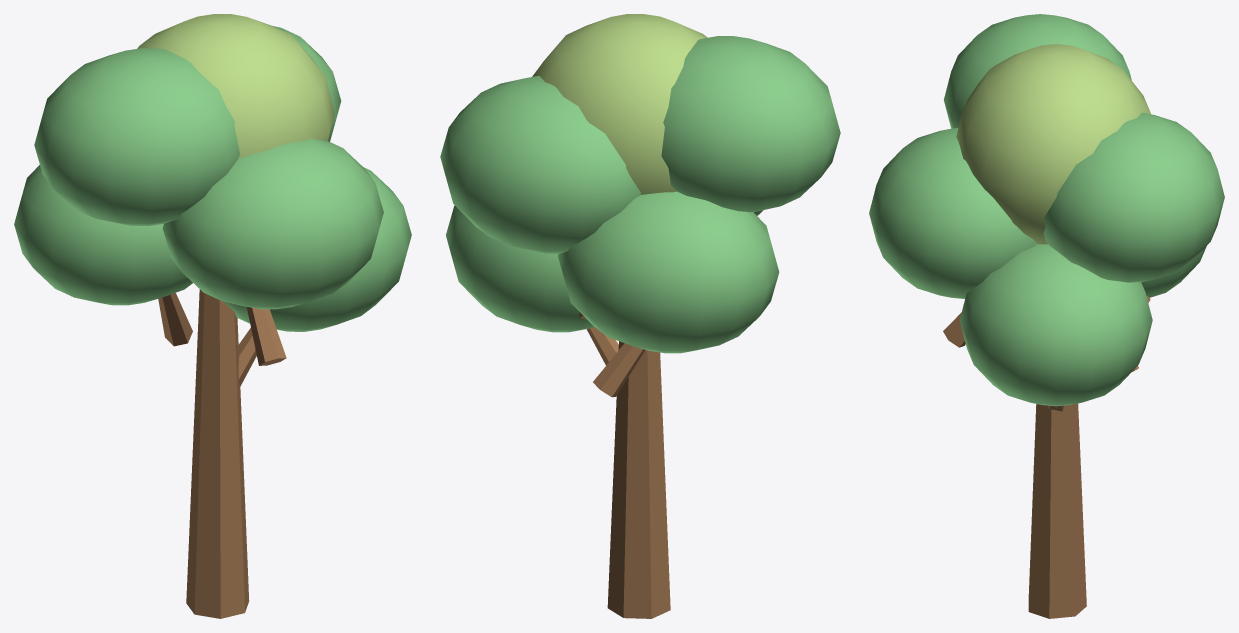
Rendered from tree_0.glb.
3 renders of one model, left to right at view 1: azimuth 30°, elevation 25°; view 2: azimuth 150°, elevation 25°; view 3: azimuth 270°, elevation 25°, orthographic. The views are drawn at different scales.
Parts seen in each view (by area): view 1: Canopy.004, Canopy.002, Trunk, Crown, Canopy.001, Canopy, Branch.002, Branch.001, Canopy.003, Branch; view 2: Canopy.001, Canopy.004, Canopy.003, Crown, Trunk, Canopy, Branch.001, Branch; view 3: Canopy, Canopy.003, Crown, Canopy.002, Trunk, Canopy.004, Canopy.001.
Part boxes in pixels (left/top/right/bottom): Canopy.004: left=34, top=48, right=240, bottom=225; Canopy.002: left=162, top=138, right=383, bottom=309; Trunk: left=186, top=289, right=249, bottom=618; Crown: left=137, top=14, right=334, bottom=158; Canopy.001: left=14, top=165, right=192, bottom=305; Canopy: left=223, top=167, right=411, bottom=331; Branch.002: left=247, top=307, right=286, bottom=365; Branch.001: left=158, top=293, right=192, bottom=346; Canopy.003: left=273, top=26, right=341, bottom=141; Branch: left=238, top=328, right=256, bottom=386; Canopy.001: left=558, top=191, right=779, bottom=353; Canopy.004: left=661, top=36, right=840, bottom=212; Canopy.003: left=440, top=76, right=640, bottom=253; Crown: left=532, top=14, right=707, bottom=194; Trunk: left=607, top=341, right=670, bottom=618; Canopy: left=446, top=205, right=594, bottom=332; Branch.001: left=593, top=343, right=645, bottom=397; Branch: left=586, top=327, right=618, bottom=365; Canopy: left=959, top=244, right=1152, bottom=406; Canopy.003: left=1043, top=112, right=1224, bottom=282; Crown: left=956, top=44, right=1150, bottom=244; Canopy.002: left=869, top=128, right=1036, bottom=298; Trunk: left=1028, top=403, right=1086, bottom=618; Canopy.004: left=944, top=14, right=1131, bottom=128; Canopy.001: left=1141, top=246, right=1206, bottom=297.
Bounding box in the file's own units: 3.49 × 5.35 × 3.13.
